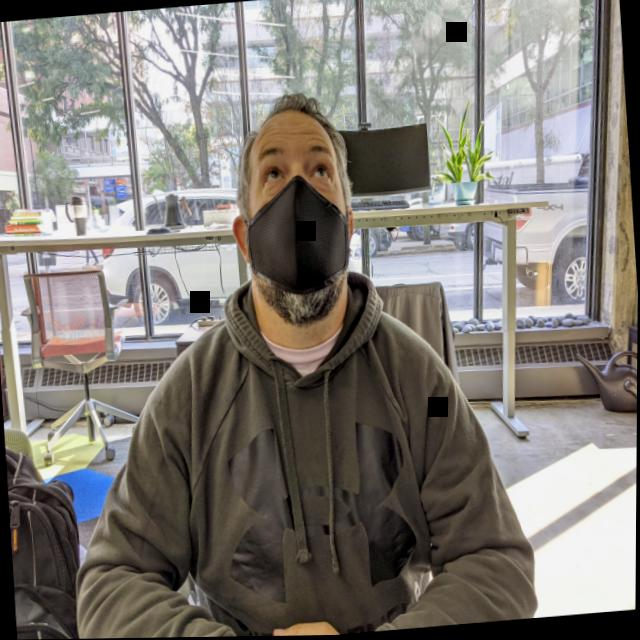Mask: (233, 119, 357, 329)
